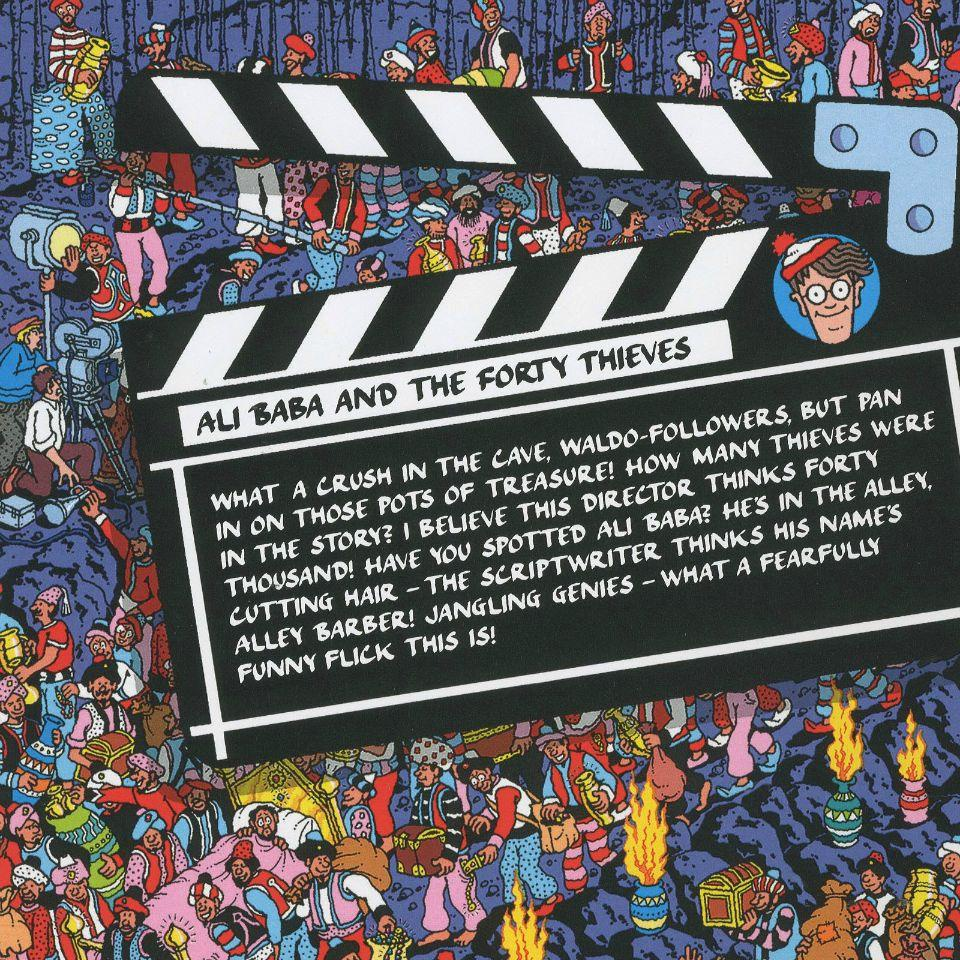waldo: (774, 233, 878, 344)
